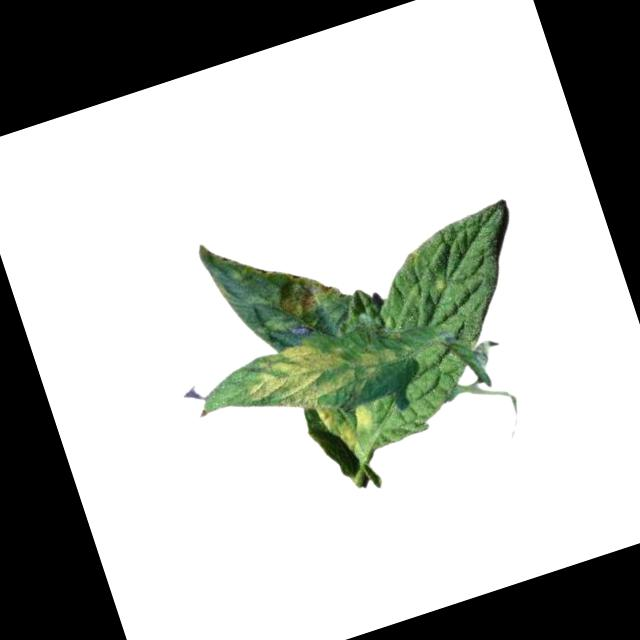Leaf_Mold: (238, 316, 405, 425), (261, 255, 346, 327), (315, 392, 377, 457)
